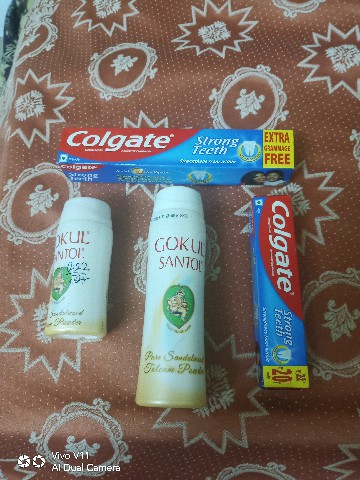colgatetoothpaste small: (245, 186, 334, 414), (42, 120, 319, 185)
gokulsantol big: (130, 186, 230, 415)
gokulsantol small: (40, 192, 138, 362)
